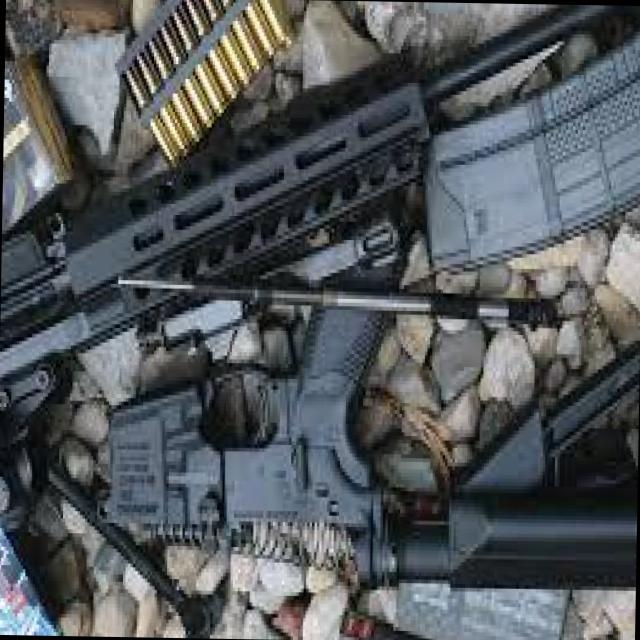Gun: (83, 187, 640, 598)
